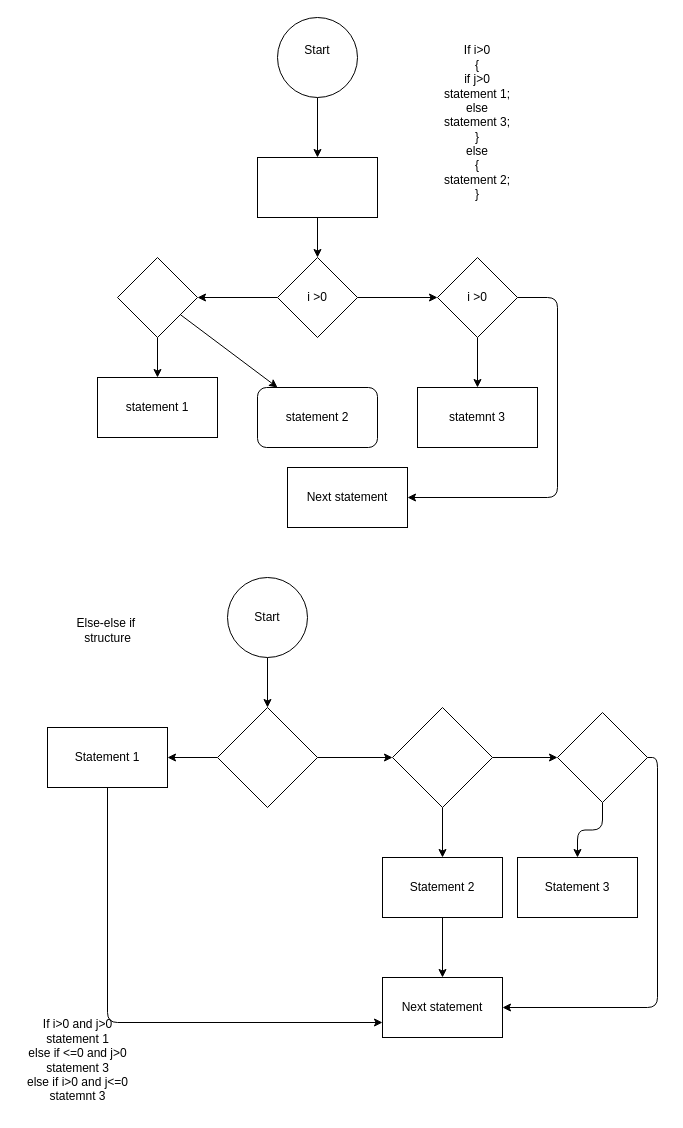
This 683x1128 diagram has some shape labels left out. The centre of each missing label's shape, as x and y in pixels:
"i>0 and j<=0" goes at (602,757).
"If i <= 0 and j > 0" goes at (442,757).
"If i > 0 and j > 0" goes at (267,757).
"If i>0 and j >0" goes at (317,187).
"j > 0" goes at (157,297).
